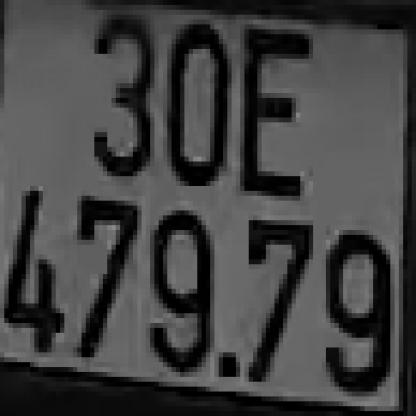0: (167, 20, 228, 186)
3: (90, 20, 154, 181)
4: (4, 191, 69, 352)
7: (249, 220, 313, 382), (82, 201, 141, 352)
9: (322, 230, 390, 387), (150, 206, 210, 372)
E: (240, 29, 305, 201)
